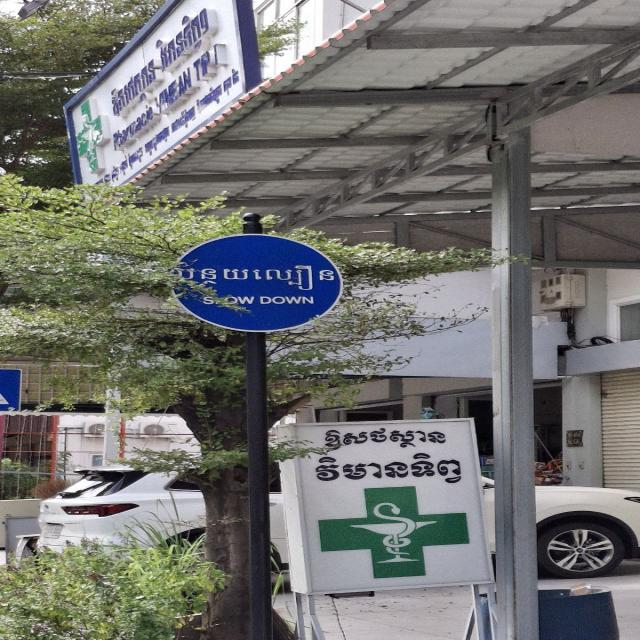Yolov11_80vkh: (168, 264, 340, 292)
